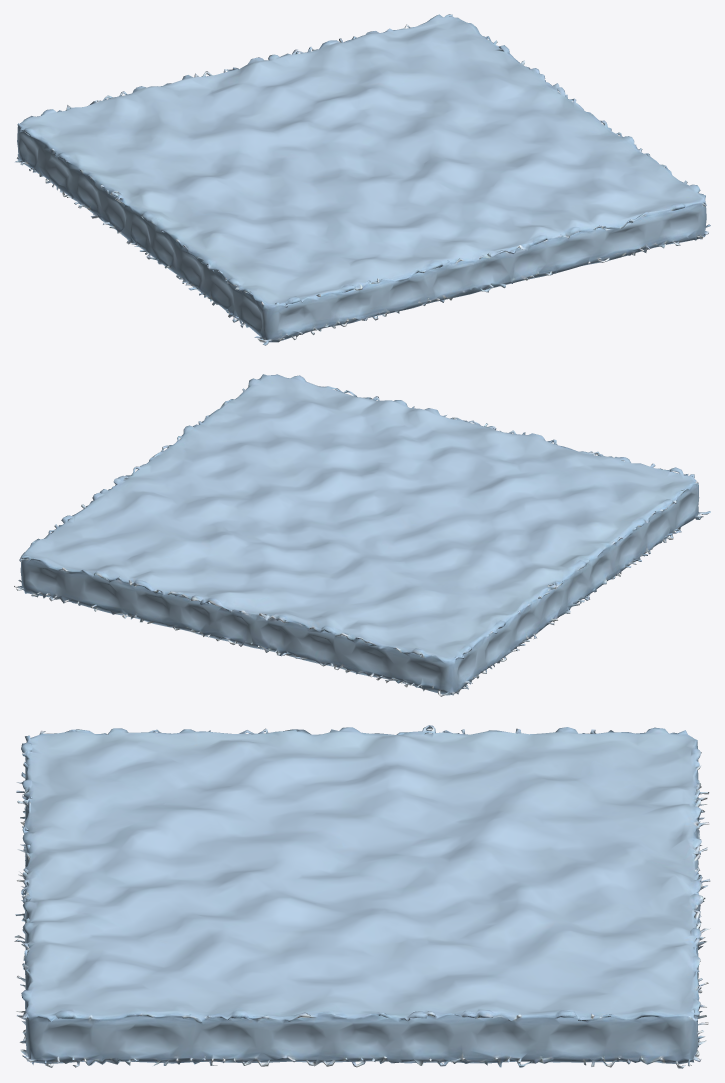
The model's file is water+cube+3d+model+1k.glb.
3 renders of one model, top to bottom at view 1: azimuth 30°, elevation 25°; view 2: azimuth 150°, elevation 25°; view 3: azimuth 270°, elevation 25°, orthographic. The views are drawn at different scales.
Visible parts, largest first — view 1: tripo_node_6d1614ac-936f-462f-a407-920b41e44fb1; view 2: tripo_node_6d1614ac-936f-462f-a407-920b41e44fb1; view 3: tripo_node_6d1614ac-936f-462f-a407-920b41e44fb1.
Boxes of the visible parts, box(x1,y1,x2,y2) form: tripo_node_6d1614ac-936f-462f-a407-920b41e44fb1: box(14, 14, 710, 345); tripo_node_6d1614ac-936f-462f-a407-920b41e44fb1: box(14, 374, 710, 696); tripo_node_6d1614ac-936f-462f-a407-920b41e44fb1: box(14, 725, 710, 1068).
Size of the model in its own units: 1 by 0.1012 by 0.998.
1 material, 1 textured.
